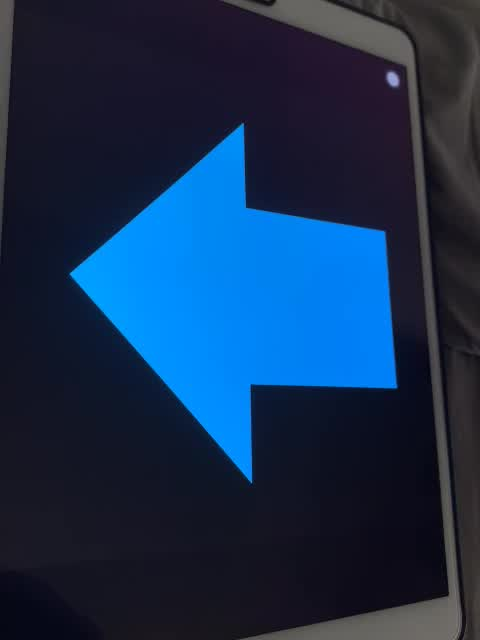left: (62, 109, 401, 492)
